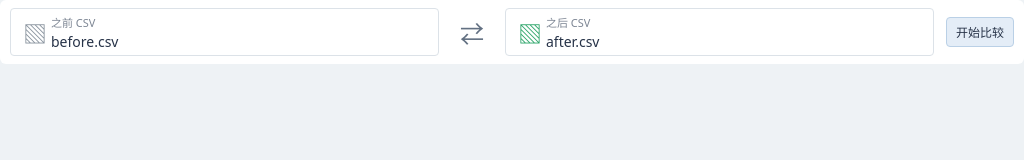
Test case: keeps both snapshot choices unchanged while an import is running
Click the button "开始比较". click: (980,32)
box: x1=946 y1=17 x2=1014 y2=47
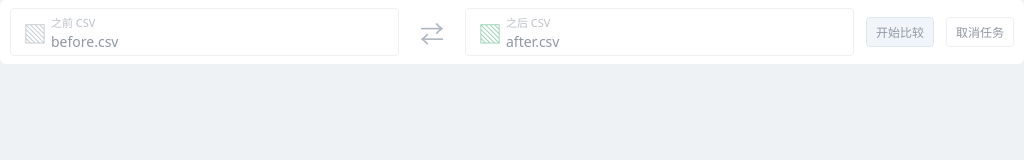
Expected: the button "开始比较" is disabled, x1=866 y1=17 x2=934 y2=47
